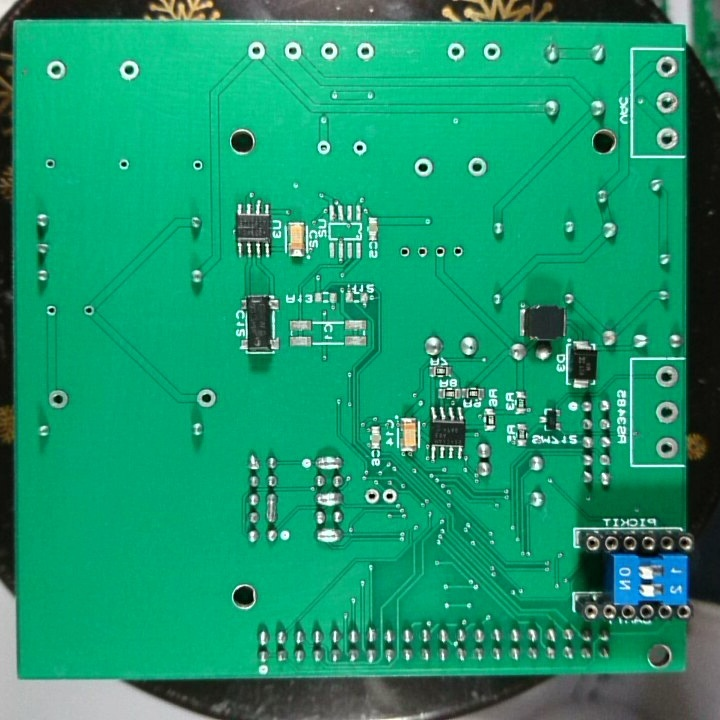F: (654, 433, 682, 463), (654, 399, 681, 427), (653, 89, 679, 118), (654, 125, 681, 152), (654, 363, 682, 389), (654, 53, 680, 80), (193, 386, 220, 412), (45, 387, 71, 414), (243, 38, 271, 63), (43, 57, 69, 83), (279, 38, 304, 64), (117, 57, 142, 83), (465, 154, 490, 180), (480, 40, 506, 64), (445, 39, 468, 65), (412, 155, 436, 179), (354, 39, 377, 63), (380, 485, 401, 509), (319, 40, 340, 63), (449, 238, 466, 265), (314, 138, 335, 158), (351, 138, 369, 160), (414, 240, 431, 263), (114, 154, 132, 175), (433, 240, 448, 265), (41, 153, 59, 173), (363, 486, 381, 506), (397, 241, 414, 262), (42, 301, 60, 320), (80, 300, 97, 320), (188, 157, 206, 175)
P: (312, 452, 345, 472), (313, 526, 345, 546), (262, 492, 280, 524), (314, 489, 345, 507)
